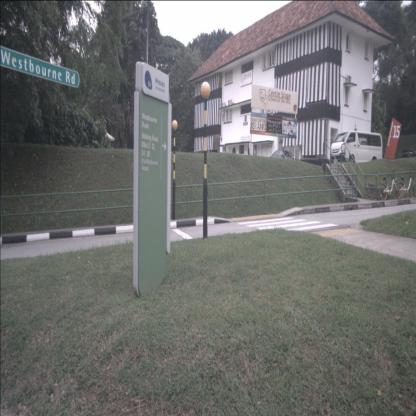vehicle-bicycle: (378, 168, 401, 200)
vehicle-car: (330, 131, 383, 166), (268, 149, 296, 167), (398, 148, 416, 165)
vehicle-motorcycle: (395, 167, 416, 199)
